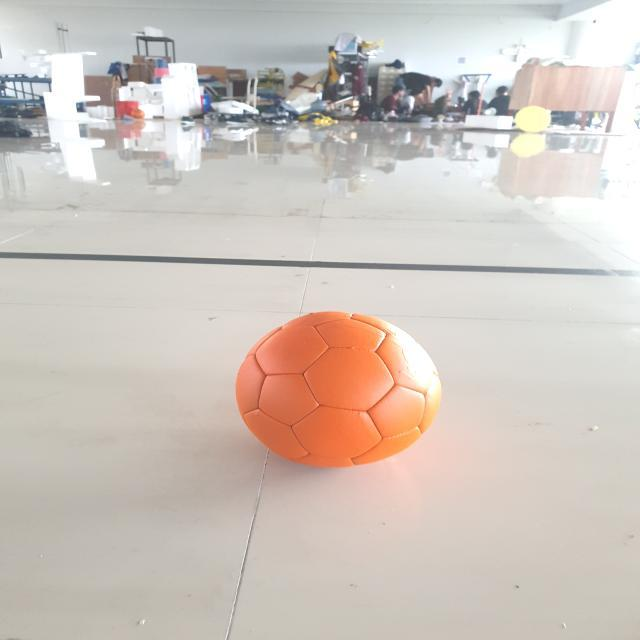bola: (205, 302, 469, 488)
